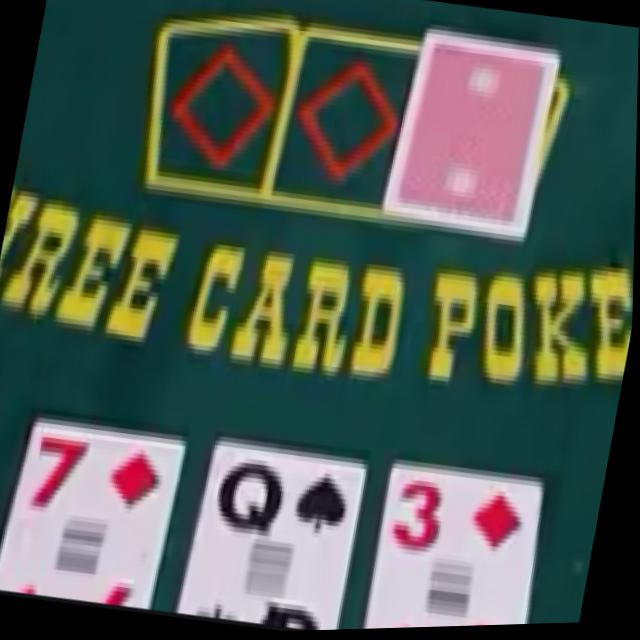Card-3: (369, 461, 545, 631)
Card-7: (0, 416, 189, 612)
Card-Q: (180, 439, 371, 632)
